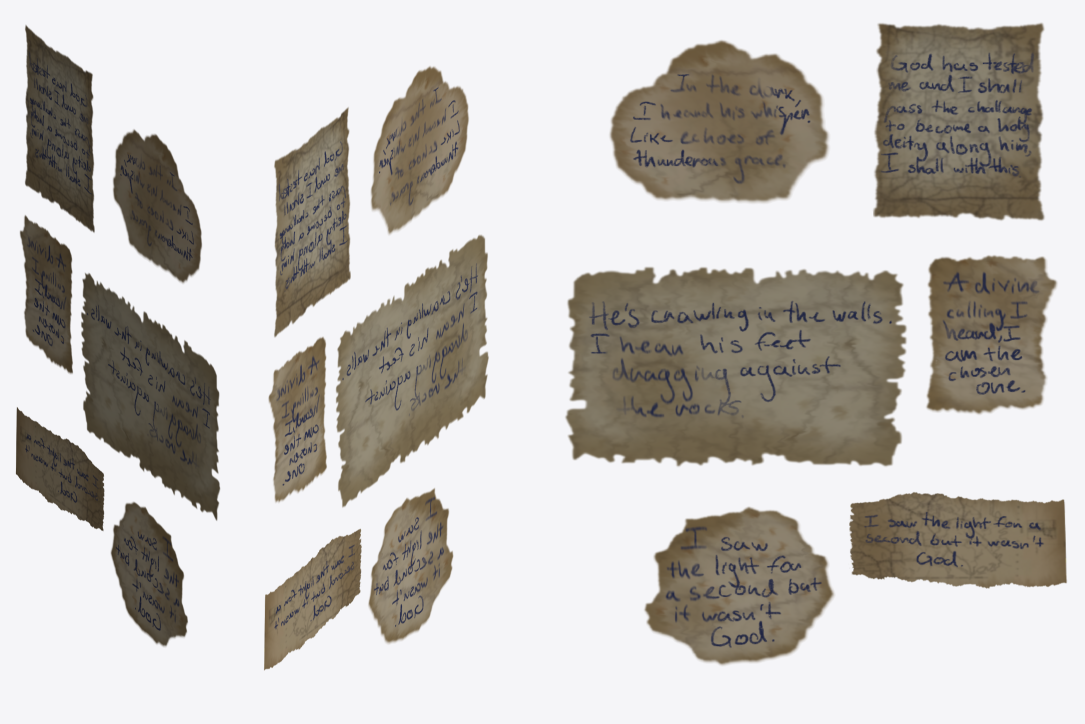
3 views of the same model, side by side, from view 1: azimuth 30°, elevation 25°; view 2: azimuth 150°, elevation 25°; view 3: azimuth 270°, elevation 25° (orthographic). The views are drawn at different scales.
Visible parts, largest first — view 1: IMG_2499.002, IMG_2499.005, IMG_2499.004, IMG_2499, IMG_2499.001, IMG_2499.003; view 2: IMG_2499.002, IMG_2499.005, IMG_2499.004, IMG_2499, IMG_2499.001, IMG_2499.003; view 3: IMG_2499.002, IMG_2499.005, IMG_2499.004, IMG_2499, IMG_2499.001, IMG_2499.003.
Boxes of the visible parts, left/top/right/bottom form: IMG_2499.002: left=81, top=273, right=219, bottom=520; IMG_2499.005: left=25, top=25, right=94, bottom=232; IMG_2499.004: left=113, top=129, right=201, bottom=283; IMG_2499: left=110, top=502, right=187, bottom=646; IMG_2499.001: left=16, top=407, right=104, bottom=530; IMG_2499.003: left=20, top=215, right=72, bottom=373; IMG_2499.002: left=336, top=235, right=488, bottom=507; IMG_2499.005: left=274, top=107, right=350, bottom=337; IMG_2499.004: left=371, top=66, right=468, bottom=234; IMG_2499: left=368, top=488, right=453, bottom=643; IMG_2499.001: left=264, top=529, right=361, bottom=670; IMG_2499.003: left=268, top=337, right=326, bottom=502; IMG_2499.002: left=565, top=267, right=906, bottom=466; IMG_2499.005: left=873, top=23, right=1044, bottom=220; IMG_2499.004: left=610, top=40, right=828, bottom=202; IMG_2499: left=644, top=507, right=834, bottom=665; IMG_2499.001: left=849, top=492, right=1066, bottom=588; IMG_2499.003: left=926, top=255, right=1056, bottom=414.
Bounding box in the file's own units: 5.23e-07 × 6.03 × 4.23.
1 material, 1 textured.
